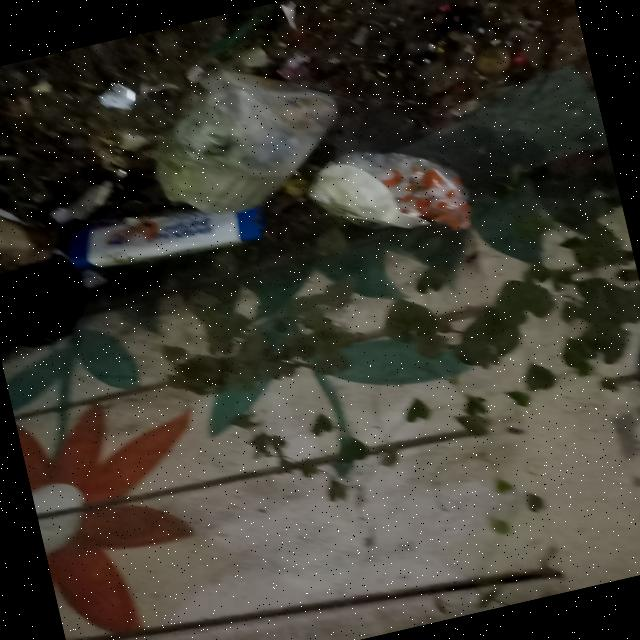garbage: (0, 0, 623, 355)
